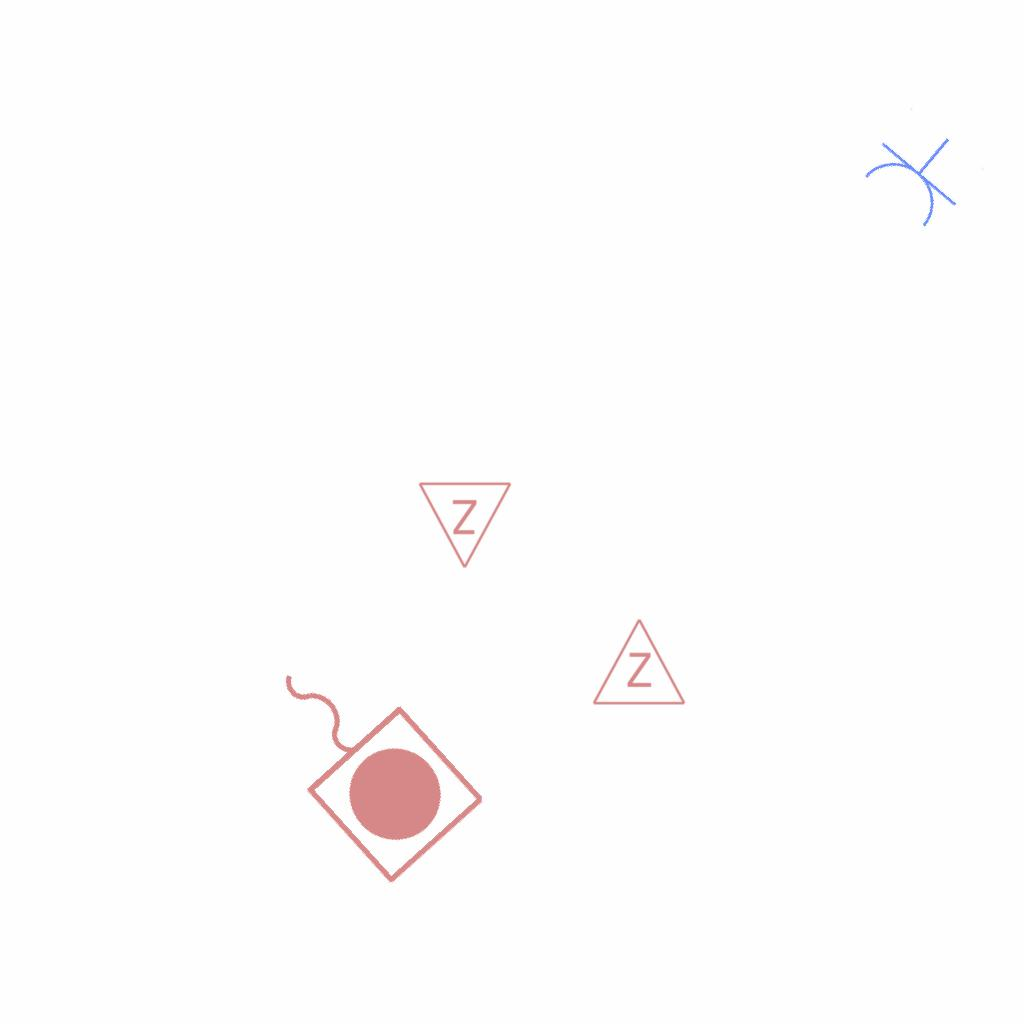Schukosteckdose_einfach: (853, 106, 987, 237)
Zimmersignalleuchte: (589, 612, 687, 712), (417, 475, 515, 575)
Zugtaster: (227, 617, 499, 895)
